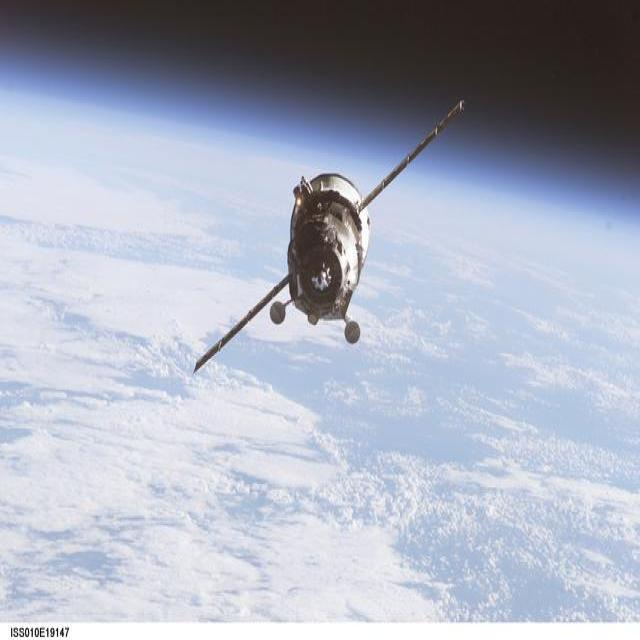satellite: (194, 101, 464, 371)
